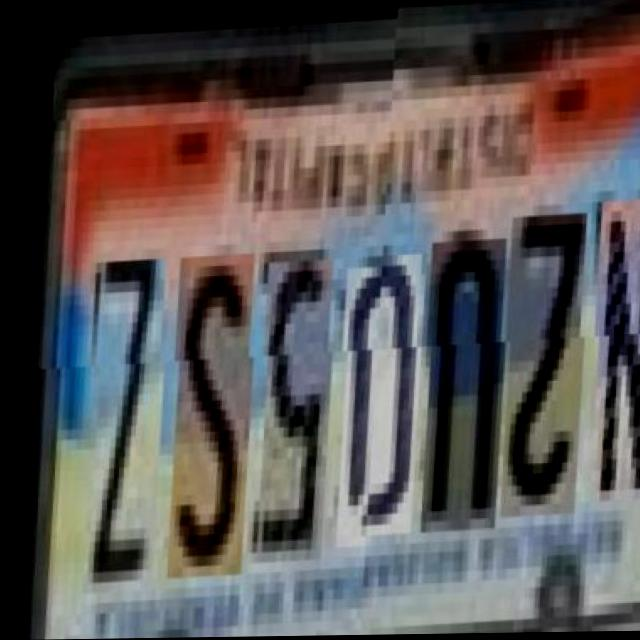0: (319, 252, 419, 536)
2: (482, 213, 584, 516)
5: (239, 246, 331, 549)
n: (571, 201, 640, 504)
s: (148, 239, 253, 564)
u: (403, 239, 503, 532)
z: (68, 243, 164, 579)
